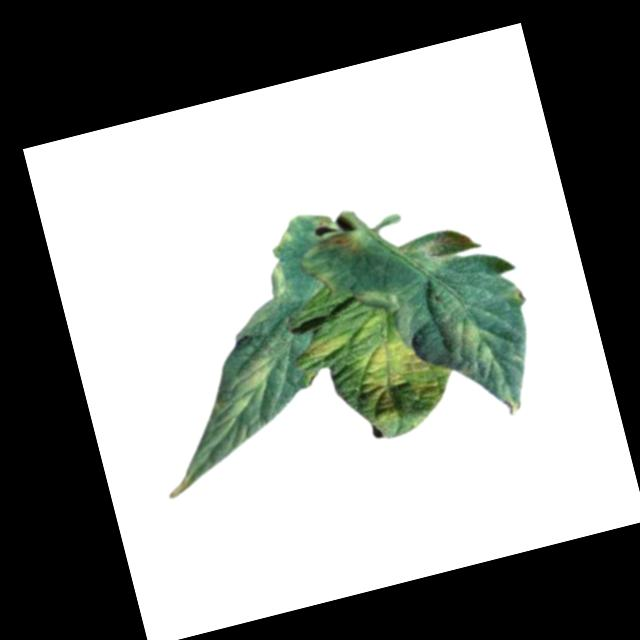Leaf_Mold: (349, 325, 457, 432), (215, 348, 285, 421), (438, 310, 505, 385), (410, 226, 478, 277), (314, 227, 366, 263), (304, 327, 353, 365)
